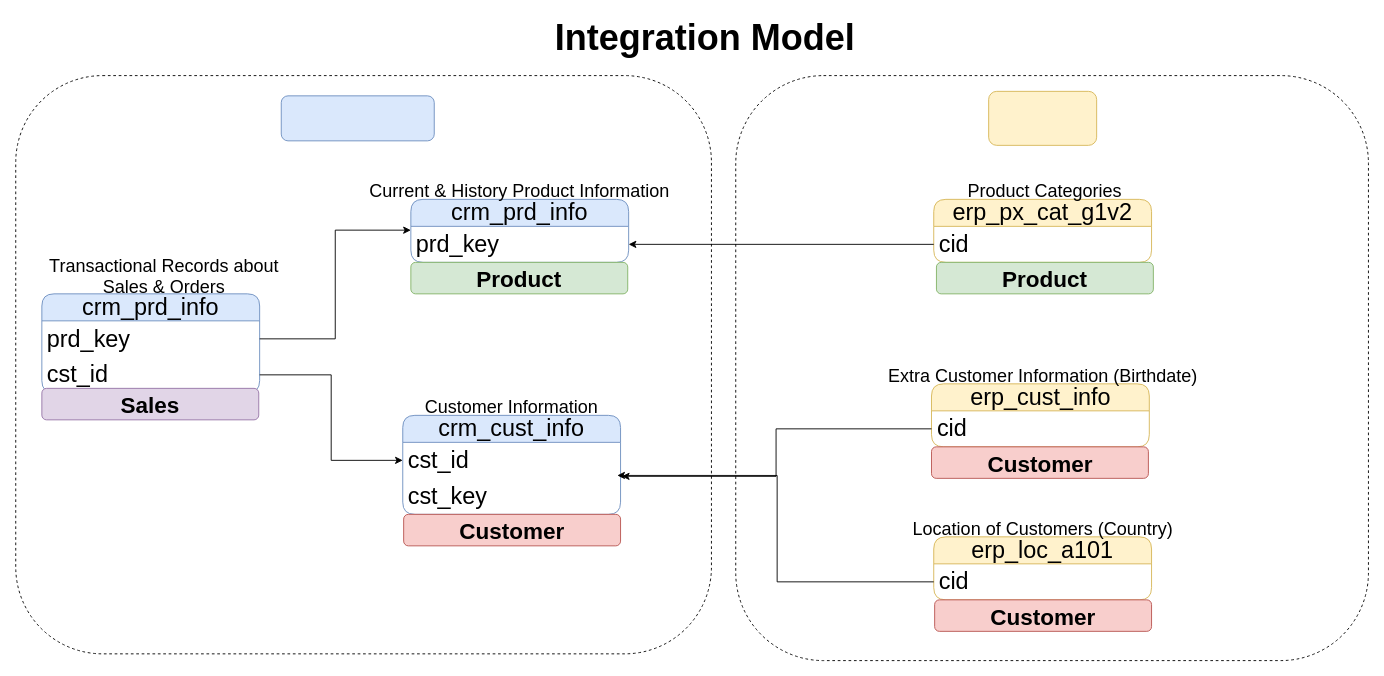
The diagram is 1384 pixels wide and 676 high, and some of its shapes have lost their labels. The centre of each missing label's shape, as x and y in pixels:
"CRM" belongs at pixel 357 118.
"ERP" belongs at pixel 1042 117.
